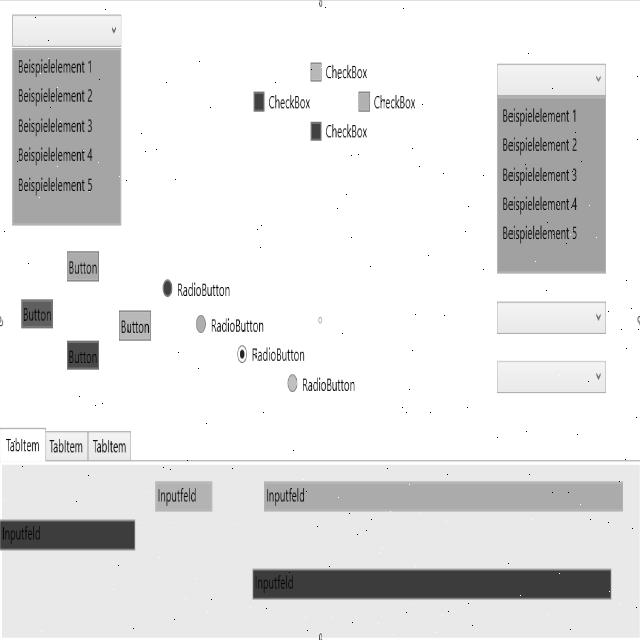button: (64, 245, 103, 285), (64, 332, 102, 372), (116, 304, 154, 344), (17, 294, 56, 332)
checkbox: (309, 56, 324, 85), (309, 116, 324, 145), (251, 88, 266, 114), (357, 89, 372, 115)
dropdownMenu: (495, 59, 608, 279), (11, 12, 123, 228), (495, 356, 608, 398), (494, 297, 608, 336)
input: (250, 565, 614, 605), (263, 477, 625, 514), (0, 514, 135, 552), (154, 477, 216, 516)
label: (301, 373, 357, 400), (174, 278, 233, 303), (250, 343, 309, 363), (210, 313, 266, 334), (373, 90, 419, 113), (322, 120, 370, 142), (326, 61, 370, 84), (268, 91, 312, 110)
menuItem: (15, 80, 94, 109), (18, 51, 98, 78), (501, 102, 579, 129), (16, 169, 94, 195), (501, 162, 580, 186), (502, 134, 579, 158), (15, 144, 95, 164), (500, 222, 580, 242), (15, 117, 96, 135), (500, 196, 580, 214)
radio: (286, 369, 301, 401), (235, 339, 249, 365), (160, 275, 174, 300), (196, 310, 206, 336)
tabControl: (0, 422, 138, 471)
